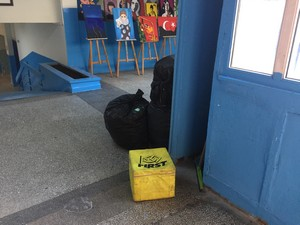cube: (129, 147, 178, 201)
